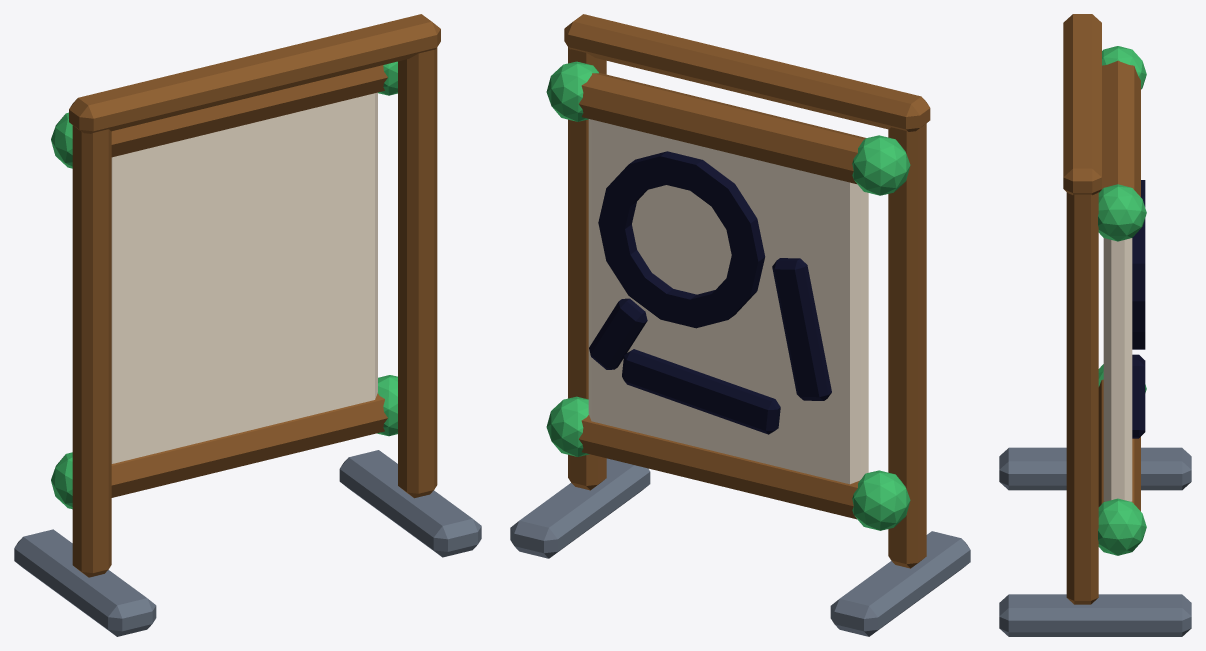
File: Prop_ninja_village_ScrollStand.glb
The picture shows the model from 3 angles, left to right: view 1: azimuth 30°, elevation 25°; view 2: azimuth 150°, elevation 25°; view 3: azimuth 270°, elevation 25°; orthographic projection. The views are drawn at different scales.
Visible parts, largest first — view 1: Paper_FFF1DC, WoodDark_8A5A2B, StoneDark_6B7686, LeafGreen_3FBF6A; view 2: WoodDark_8A5A2B, Paper_FFF1DC, Ink_0D0F2B, StoneDark_6B7686, LeafGreen_3FBF6A; view 3: WoodDark_8A5A2B, StoneDark_6B7686, Paper_FFF1DC, LeafGreen_3FBF6A, Ink_0D0F2B.
Part boxes in pixels (bbox=[...]): Paper_FFF1DC: bbox=[111, 92, 377, 463]; WoodDark_8A5A2B: bbox=[69, 14, 440, 577]; StoneDark_6B7686: bbox=[14, 450, 481, 636]; LeafGreen_3FBF6A: bbox=[51, 61, 397, 509]; WoodDark_8A5A2B: bbox=[564, 14, 930, 568]; Paper_FFF1DC: bbox=[588, 119, 868, 484]; Ink_0D0F2B: bbox=[589, 151, 831, 434]; StoneDark_6B7686: bbox=[510, 458, 970, 636]; LeafGreen_3FBF6A: bbox=[546, 61, 910, 530]; WoodDark_8A5A2B: bbox=[1063, 14, 1140, 604]; StoneDark_6B7686: bbox=[999, 447, 1191, 636]; Paper_FFF1DC: bbox=[1103, 238, 1132, 501]; LeafGreen_3FBF6A: bbox=[1098, 46, 1146, 555]; Ink_0D0F2B: bbox=[1132, 180, 1145, 438].
Bounding box in the file's own units: 6.2 × 8 × 3.
